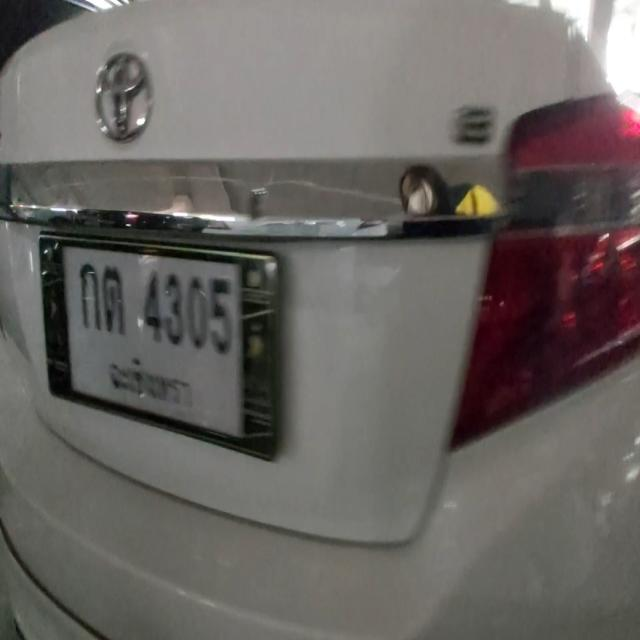license_plate: (63, 244, 244, 441)
